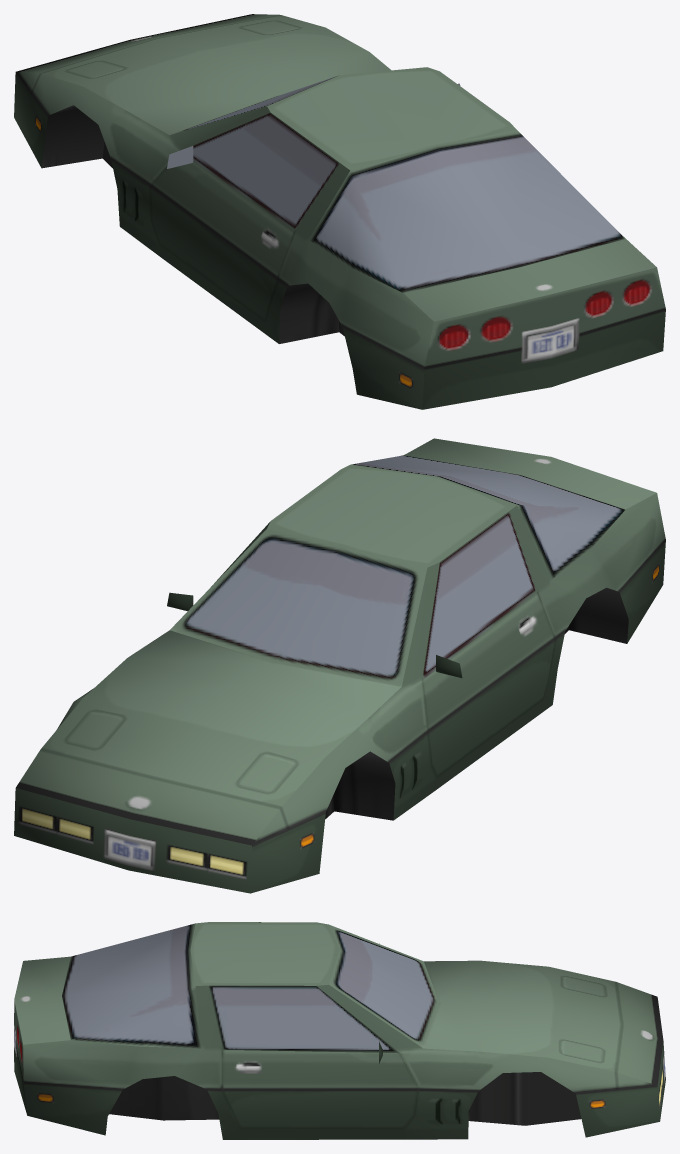
The model's file is Vehicles_SportsCar.FBX.
3 renders of one model, top to bottom at view 1: azimuth 30°, elevation 25°; view 2: azimuth 150°, elevation 25°; view 3: azimuth 270°, elevation 25°, orthographic. The views are drawn at different scales.
Parts seen in each view (by area): view 1: Vehicles_SportsCar; view 2: Vehicles_SportsCar; view 3: Vehicles_SportsCar.
Boxes of the visible parts, box(x1,y1,x2,y2) form: Vehicles_SportsCar: box(14, 14, 665, 409); Vehicles_SportsCar: box(14, 438, 665, 893); Vehicles_SportsCar: box(14, 922, 665, 1139).
Bounding box in the file's own units: 84.27 × 51.95 × 209.
1 material, 1 textured.
